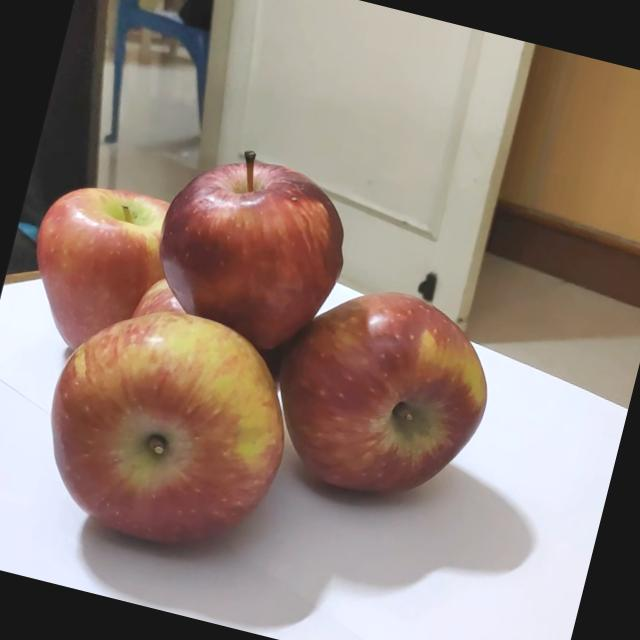apple: (16, 280, 314, 576), (245, 262, 512, 531), (126, 130, 370, 362), (10, 166, 189, 372)
